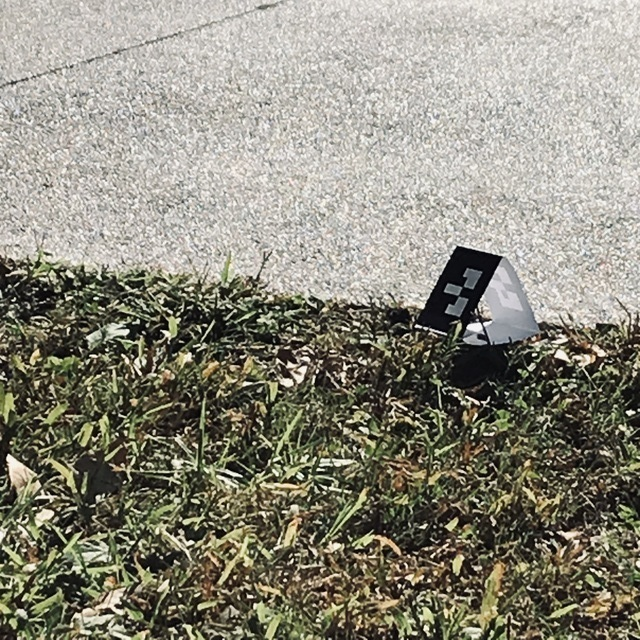ARTag: (415, 246, 541, 348)
